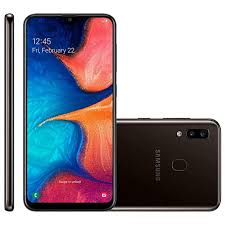samsung: (21, 11, 117, 213), (117, 117, 221, 215)
